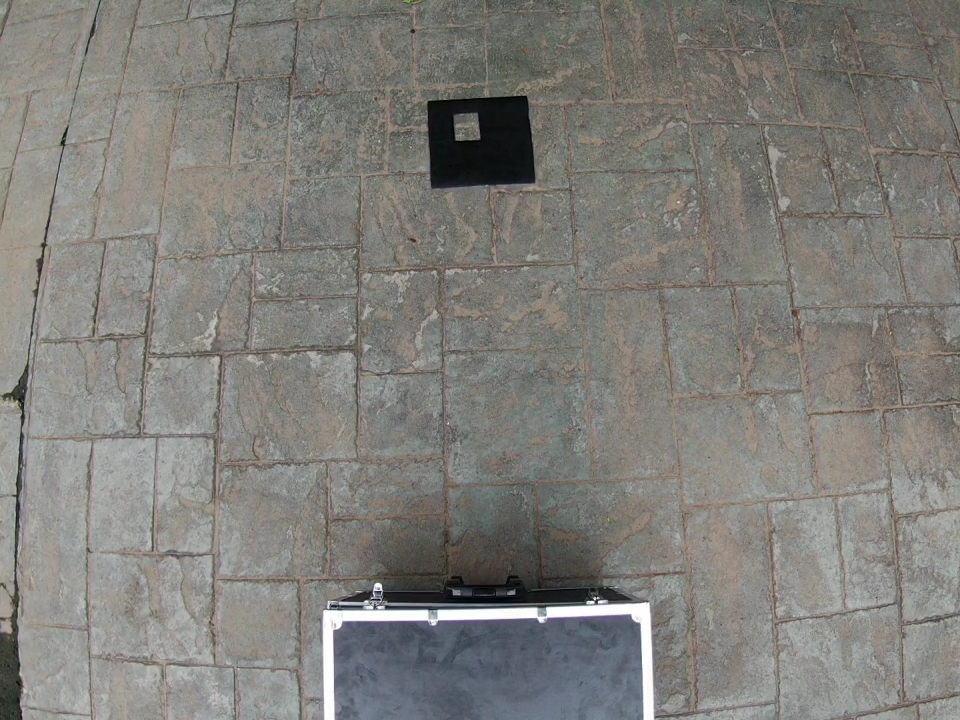box: (323, 590, 655, 720)
qrcode: (427, 96, 535, 189)
